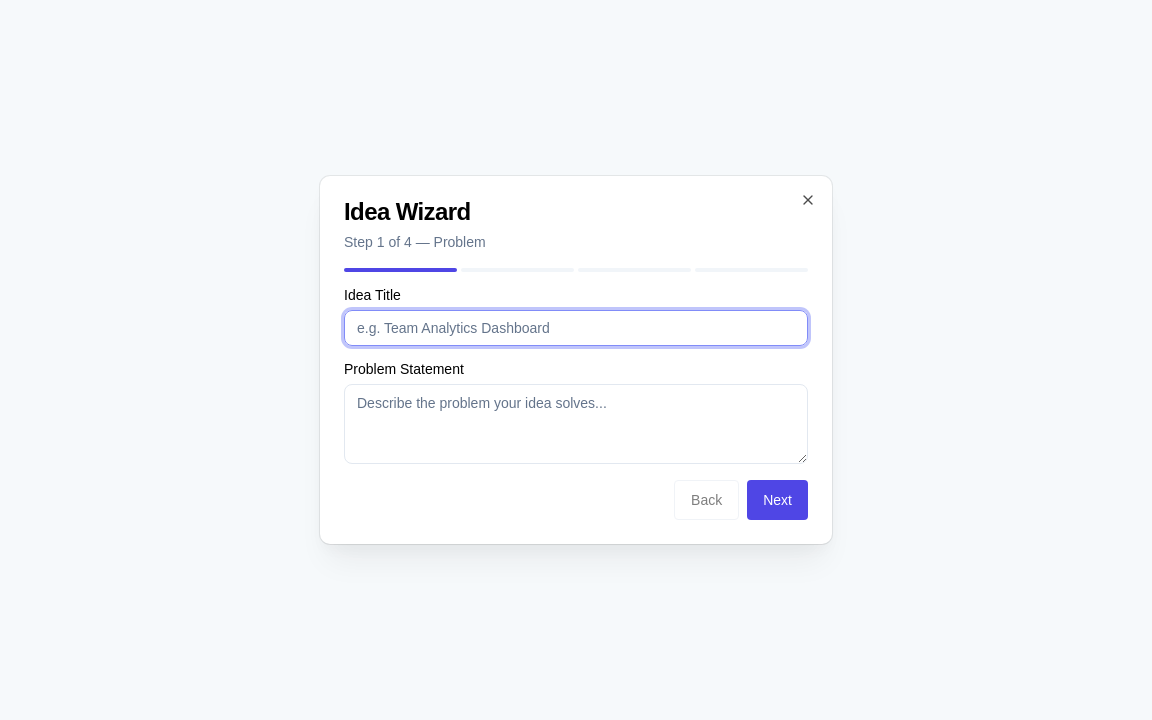
Test case: IdeaWizard › navigates to step 2 on Next click
Click the button "Next" at coordinates (778, 500), box left=747, top=480, right=808, bottom=520
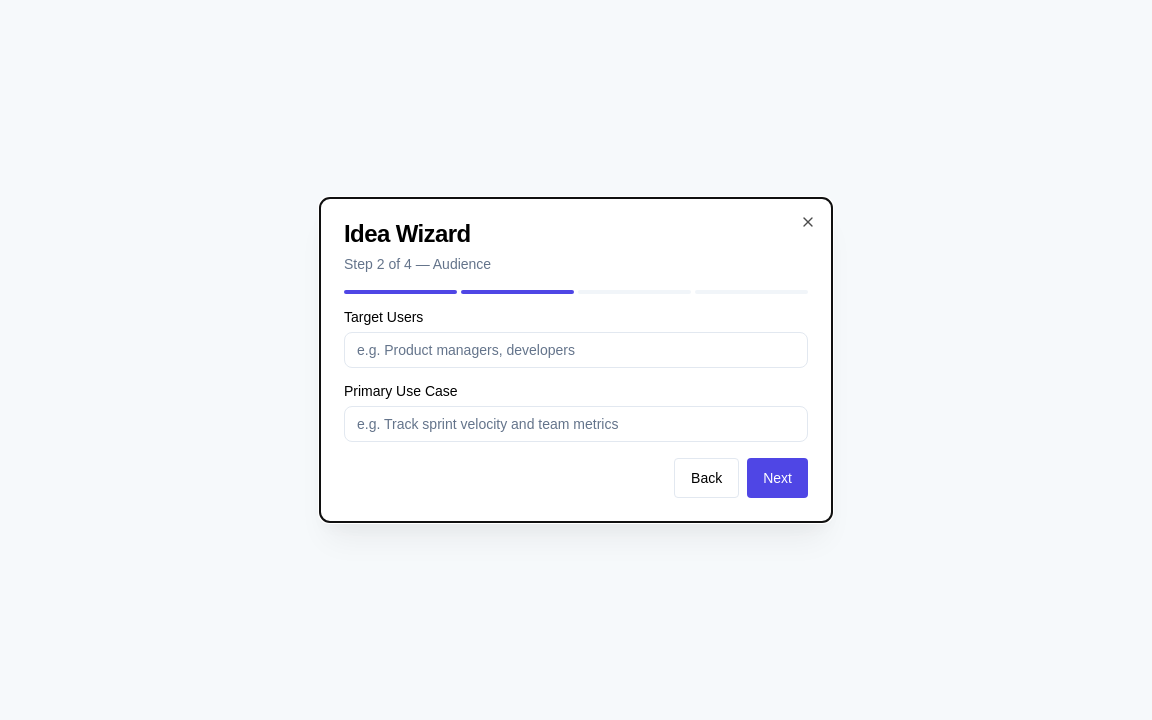
Expected: the text "Step 2 of 4 — Audience" is shown, left=344, top=256, right=491, bottom=272
